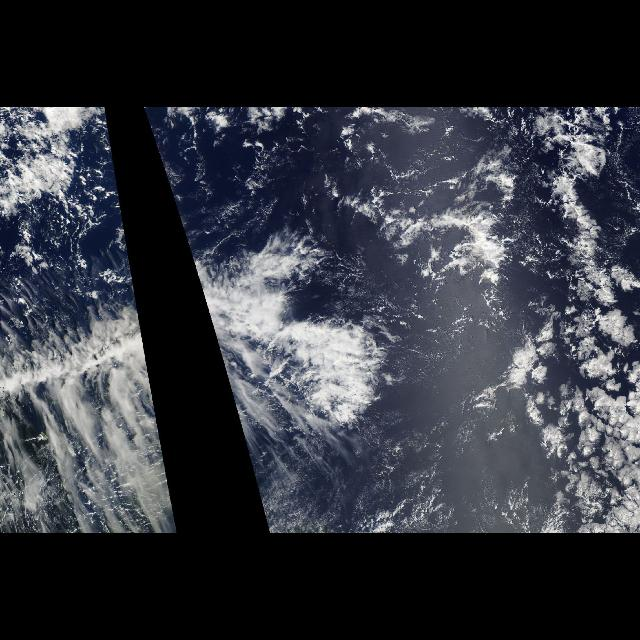Fish: (198, 276, 374, 492), (6, 276, 170, 492), (544, 154, 640, 356)
Flower: (458, 363, 640, 532)
